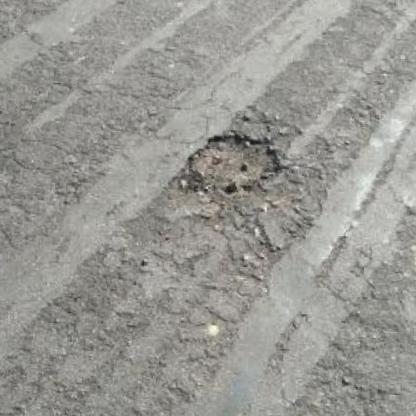pothole: (180, 129, 288, 198)
